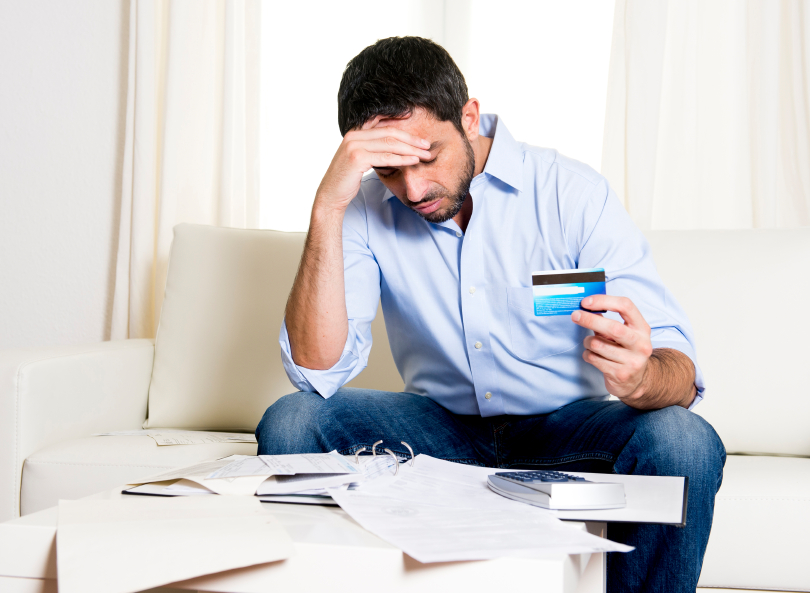tarjeta: (529, 265, 609, 317)
